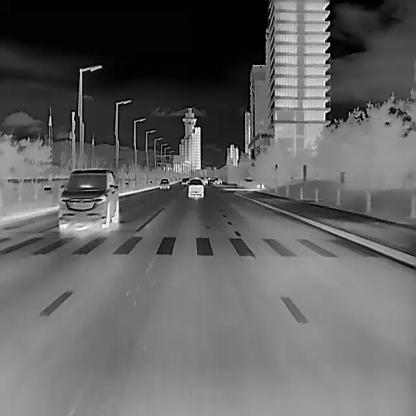car: (57, 168, 119, 229), (187, 178, 204, 198), (160, 177, 169, 189)
crosswalk: (7, 223, 383, 268)
